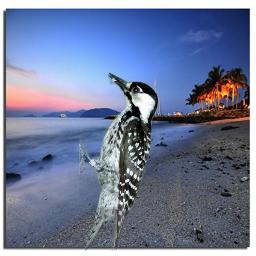Woodpecker: (79, 71, 158, 251)
